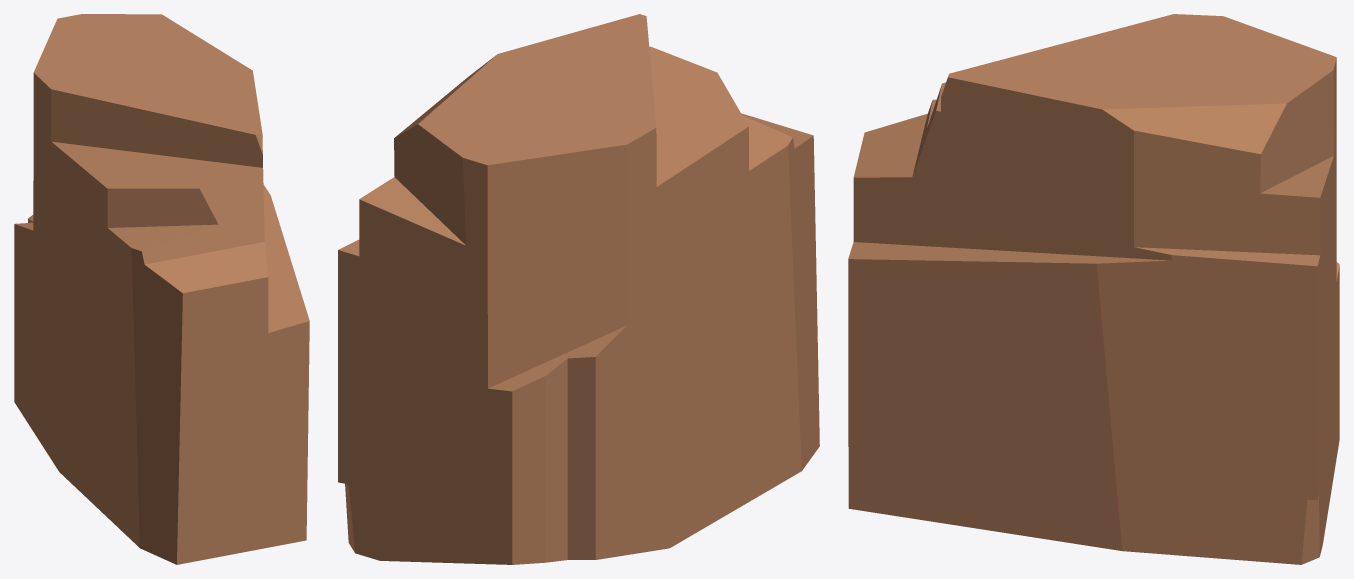
The model's file is DesertRockBig_03.fbx.
3 renders of one model, left to right at view 1: azimuth 30°, elevation 25°; view 2: azimuth 150°, elevation 25°; view 3: azimuth 270°, elevation 25°, orthographic. The views are drawn at different scales.
Parts seen in each view (by area): view 1: Cube.006; view 2: Cube.006; view 3: Cube.006.
Boxes of the visible parts, x1=… form: Cube.006: x1=14, y1=14, x2=309, y2=564; Cube.006: x1=338, y1=14, x2=819, y2=564; Cube.006: x1=848, y1=14, x2=1339, y2=564.
Bounding box in the file's own units: 503 × 765 × 791.
